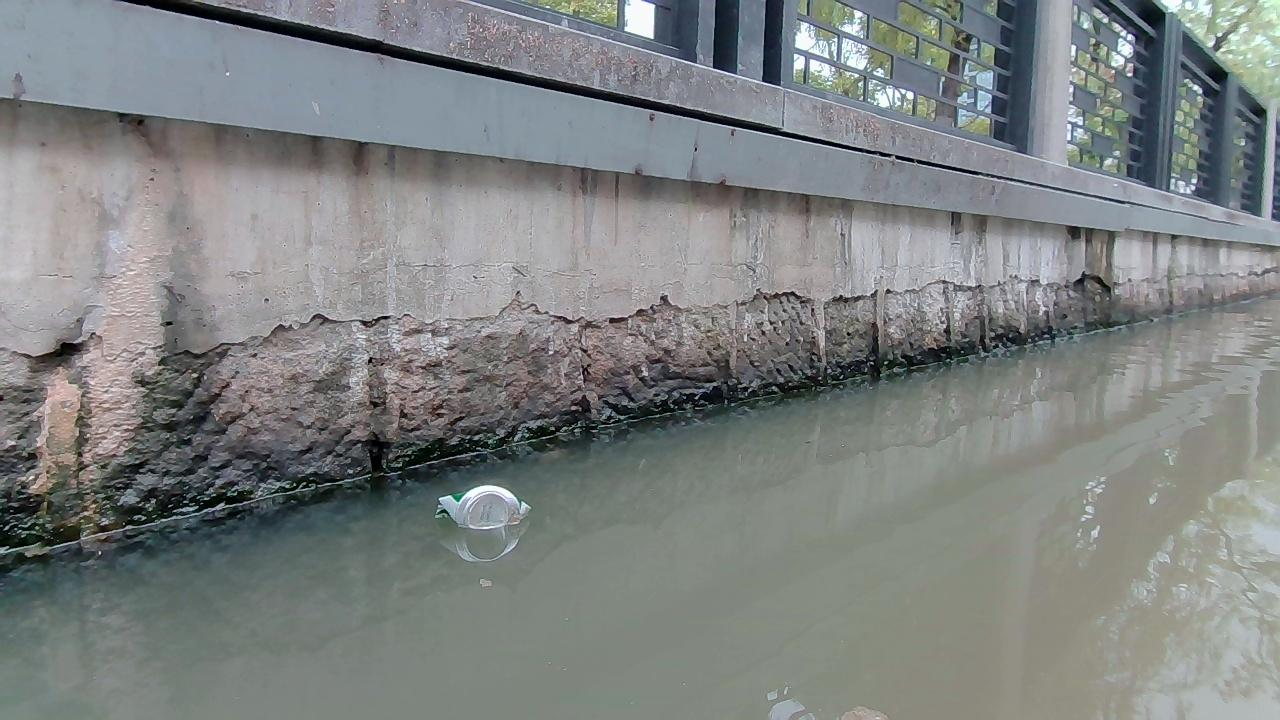Metal: (433, 482, 534, 532)
